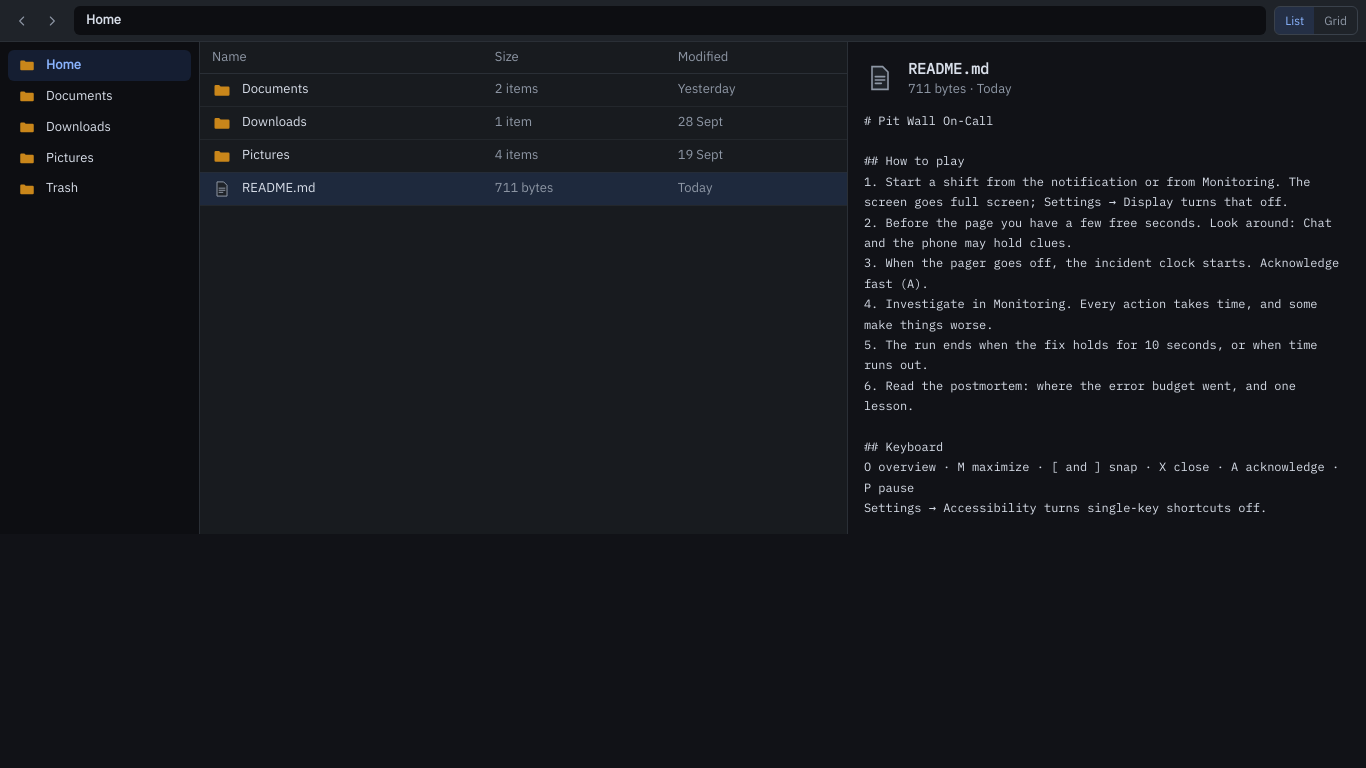
Test case: FilesApp › switches between list and grid views
Click the button "Grid".
click(1336, 20)  # box [1314,7,1357,34]
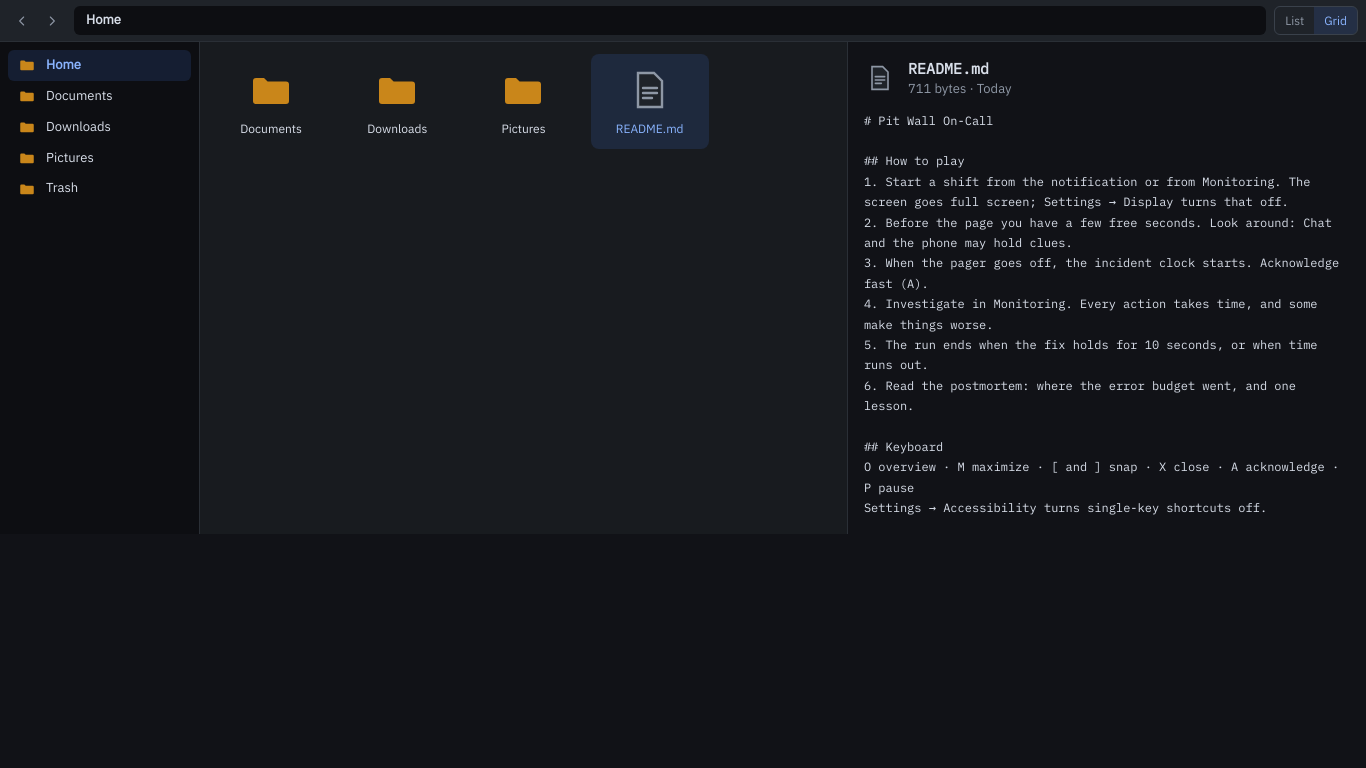
Result: the table is gone
Result: the list named "Home" is shown at [212,54,709,149]
